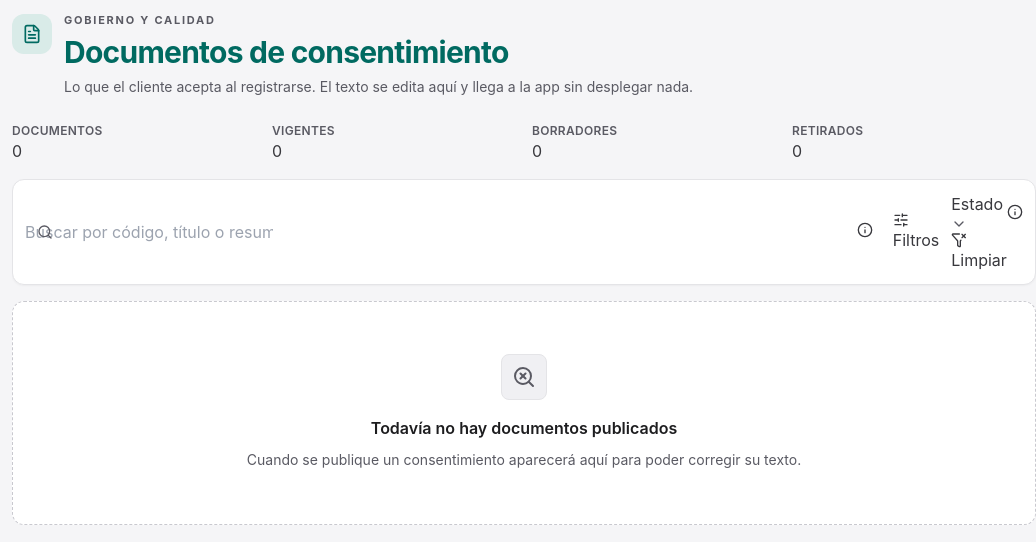
Test case: ConsentDocumentsPage › sin coincidencias dice que nada coincide, distinto de «no hay documentos»
The image size is (1036, 542).
Expected: the heading "Todavía no hay documentos publicados" is shown, [371,416,677,440]
Type "zzz" into the field labelled "Buscar por código, título o resumen…" at [149, 232], box [25,220,273,244]
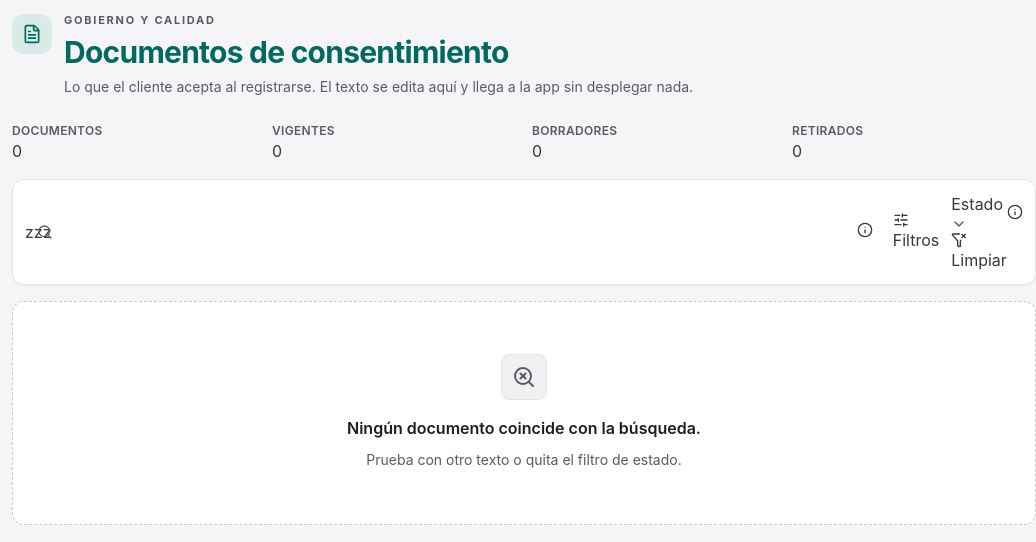
Expected: the heading "Ningún documento coincide con la búsqueda." is shown, [347,416,701,440]
